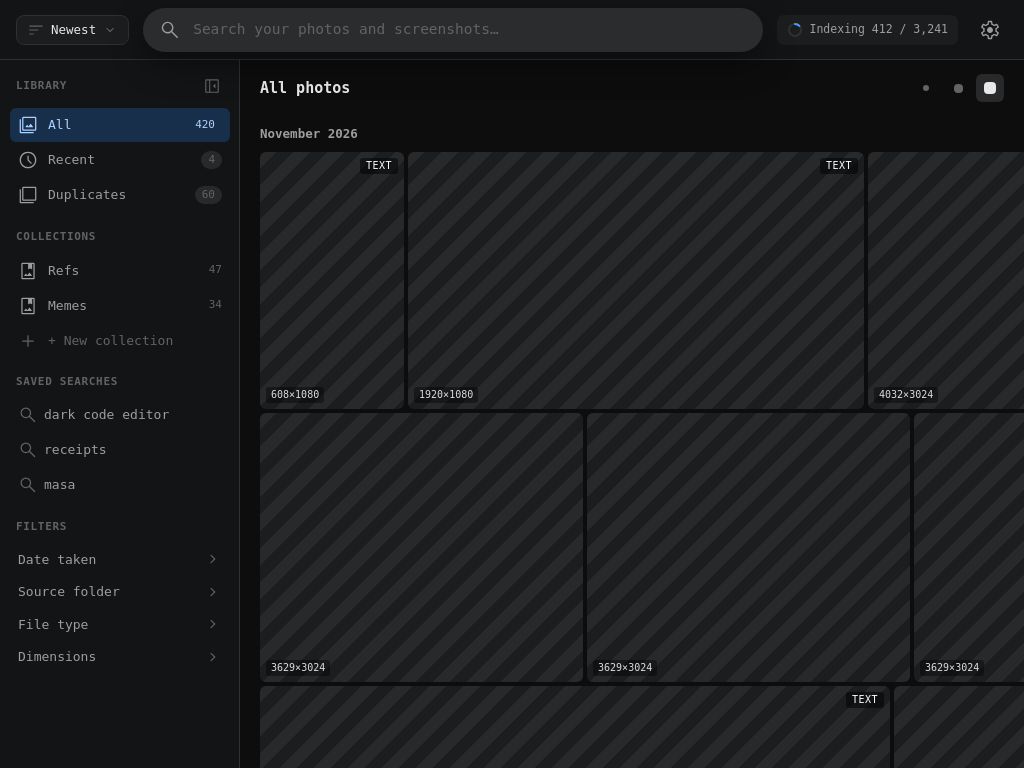
Test: App › shows the pause button in the real app too, and it calls the api
Click the button "Indexing 412 / 3,241".
click(867, 30)  # box [776, 15, 958, 45]
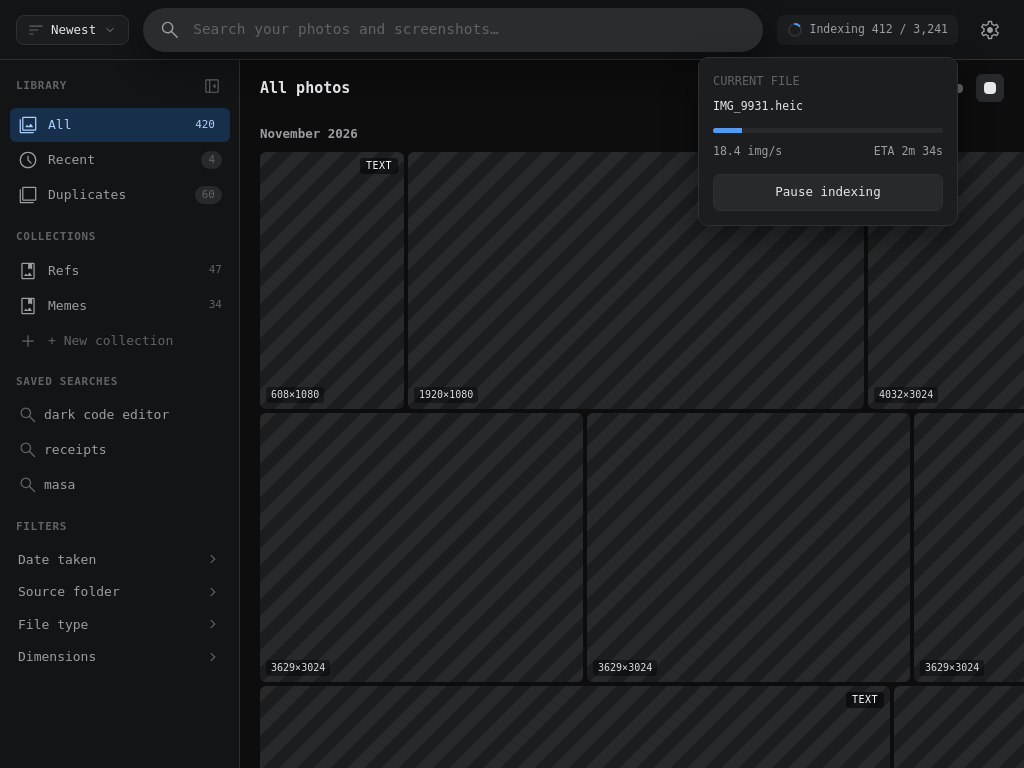
Click the button "Pause indexing".
click(828, 192)  # box [713, 174, 943, 211]
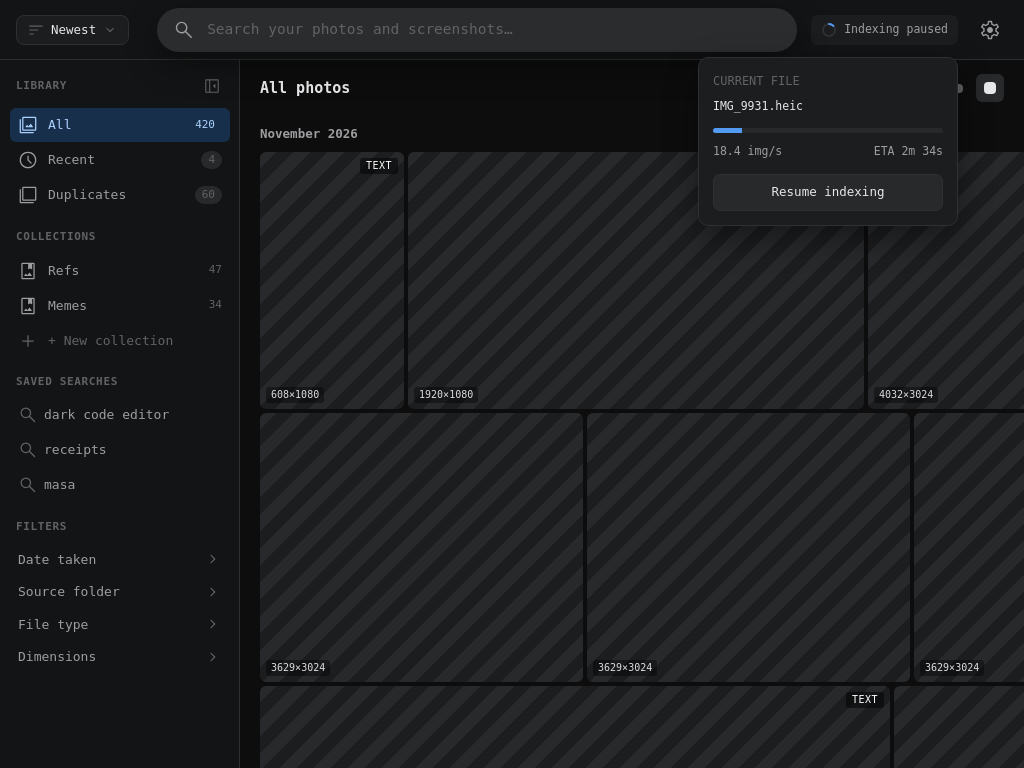
Result: the text "Indexing paused" is shown at [844, 21, 948, 39]
